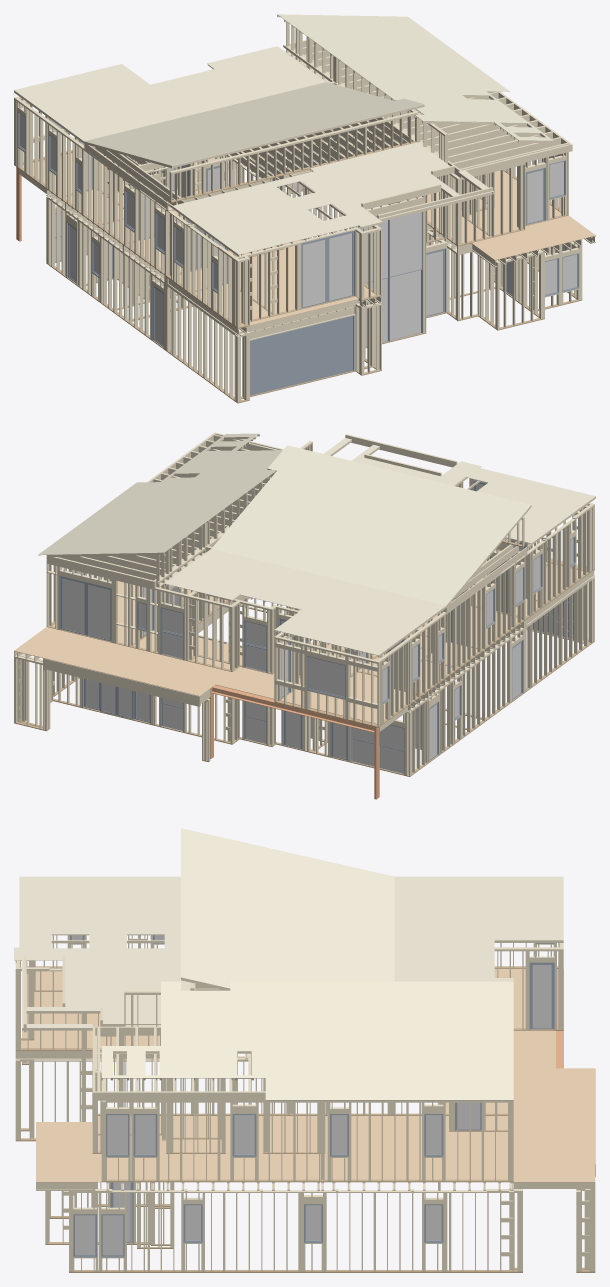
The model's file is cassia-street.glb.
3 views of the same model, one above another, from view 1: azimuth 30°, elevation 25°; view 2: azimuth 150°, elevation 25°; view 3: azimuth 270°, elevation 25° (orthographic). The views are drawn at different scales.
Visible parts, largest first — view 1: part_00, part_04, part_03, part_02, part_06, part_01; view 2: part_04, part_00, part_03, part_06, part_02, part_01, part_07; view 3: part_04, part_00, part_06, part_03, part_01, part_02.
Part boxes in pixels (x1,y1,x2,y2): part_00: (14, 15, 595, 402); part_04: (14, 14, 553, 254); part_03: (19, 114, 577, 345); part_02: (17, 111, 579, 395); part_06: (22, 120, 595, 325); part_01: (14, 141, 582, 403); part_04: (38, 433, 595, 655); part_00: (14, 432, 595, 775); part_03: (62, 483, 573, 773); part_06: (14, 550, 586, 724); part_02: (59, 480, 577, 774); part_01: (14, 540, 594, 776); part_07: (209, 685, 379, 799); part_04: (14, 828, 563, 1100); part_00: (15, 934, 595, 1271); part_06: (15, 968, 595, 1182); part_03: (72, 935, 551, 1254); part_01: (15, 966, 595, 1272); part_02: (70, 935, 554, 1257).
Bounding box in the file's own units: 16.87 × 8.19 × 18.82.
